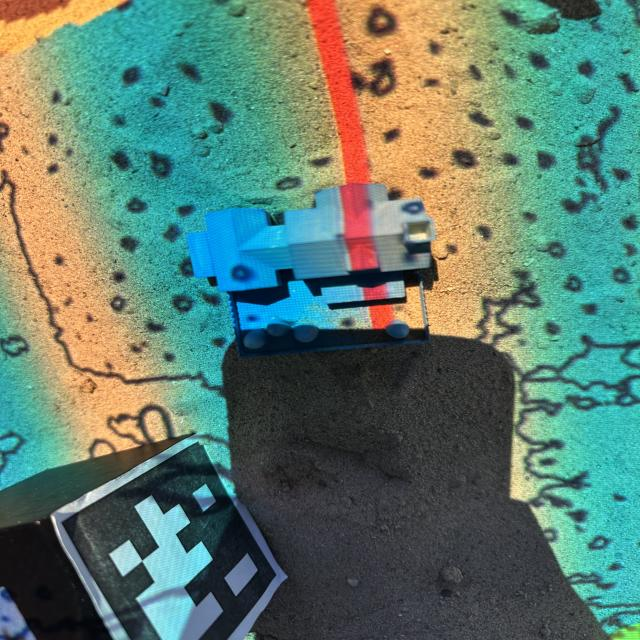house: (185, 182, 436, 358)
